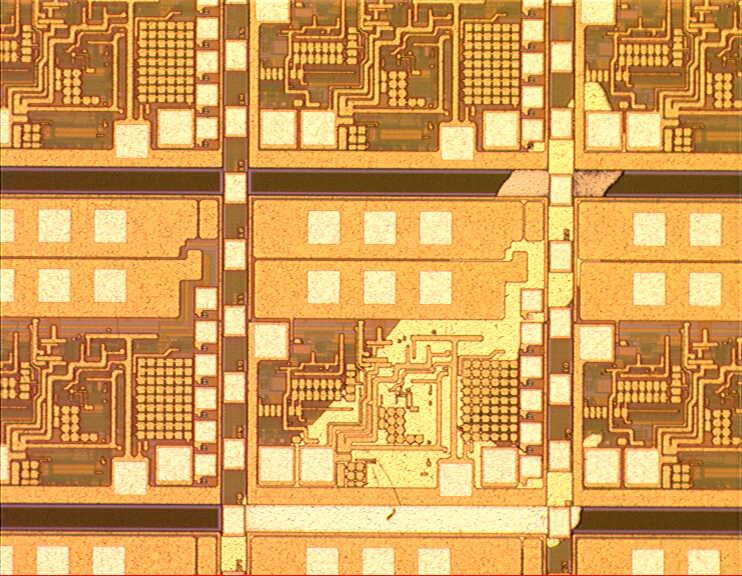BLOCK ETCH: (174, 72, 630, 576)
